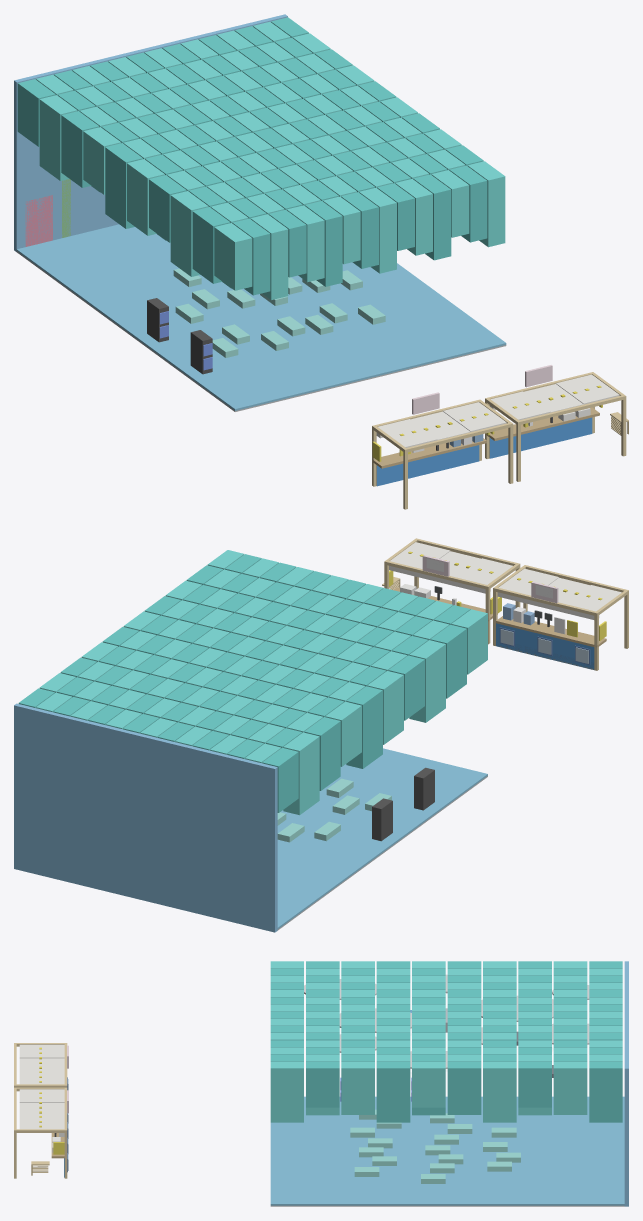
File: medical.glb
3 views of the same model, one above another, from view 1: azimuth 30°, elevation 25°; view 2: azimuth 150°, elevation 25°; view 3: azimuth 270°, elevation 25° (orthographic). The views are drawn at different scales.
Visible parts, largest first — view 1: Geom3D (×39); view 2: Geom3D (×22); view 3: Geom3D (×22).
Boxes of the visible parts, x1,y1,x2,y2 form: Geom3D (×39): (14, 14, 619, 486); Geom3D (×22): (14, 542, 621, 932); Geom3D (×22): (19, 961, 628, 1206).
Size of the model in its own units: 26.14 by 15.65 by 63.32.
